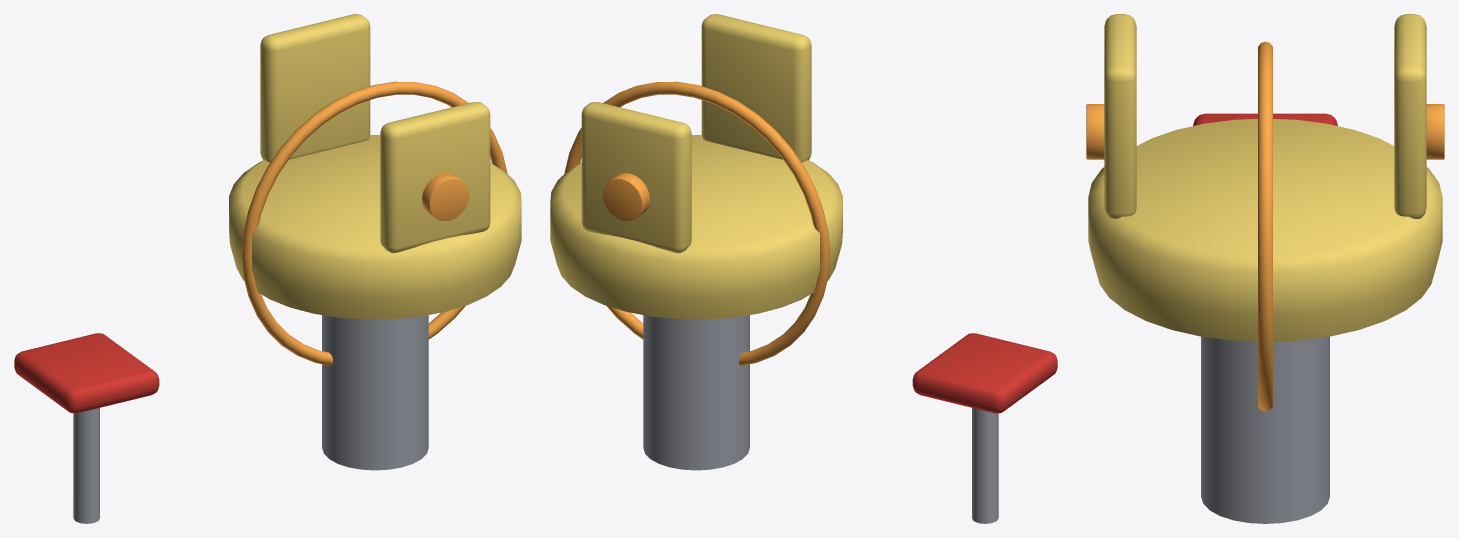
Rendered from cannon_base.glb.
The picture shows the model from 3 angles, left to right: view 1: azimuth 30°, elevation 25°; view 2: azimuth 150°, elevation 25°; view 3: azimuth 270°, elevation 25°; orthographic projection. The views are drawn at different scales.
Visible parts, largest first — view 1: drum, post, yoke-1, yoke1, seat, ring, seatpost, axle1; view 2: drum, post, yoke1, yoke-1, seat, ring, seatpost, axle-1; view 3: drum, post, yoke1, yoke-1, ring, axle1, axle-1, seat.
Part boxes in pixels (<box>): drum: <box>229,135,521,319</box>; post: <box>322,315,428,470</box>; yoke-1: <box>260,14,370,162</box>; yoke1: <box>380,102,490,253</box>; seat: <box>14,333,159,413</box>; ring: <box>241,81,507,365</box>; seatpost: <box>73,408,99,523</box>; axle1: <box>422,173,469,221</box>; drum: <box>550,135,842,319</box>; post: <box>643,315,749,470</box>; yoke1: <box>701,14,811,162</box>; yoke-1: <box>581,102,691,253</box>; seat: <box>912,333,1057,413</box>; ring: <box>564,81,830,365</box>; seatpost: <box>972,408,998,523</box>; axle-1: <box>602,173,649,221</box>; drum: <box>1088,119,1442,341</box>; post: <box>1201,336,1329,523</box>; yoke1: <box>1104,14,1136,218</box>; yoke-1: <box>1394,14,1426,218</box>; ring: <box>1258,41,1272,411</box>; axle1: <box>1086,104,1104,159</box>; axle-1: <box>1426,104,1444,159</box>; seat: <box>1193,113,1337,125</box>.
Size of the model in its own units: 1.62 by 1.25 by 0.89.
